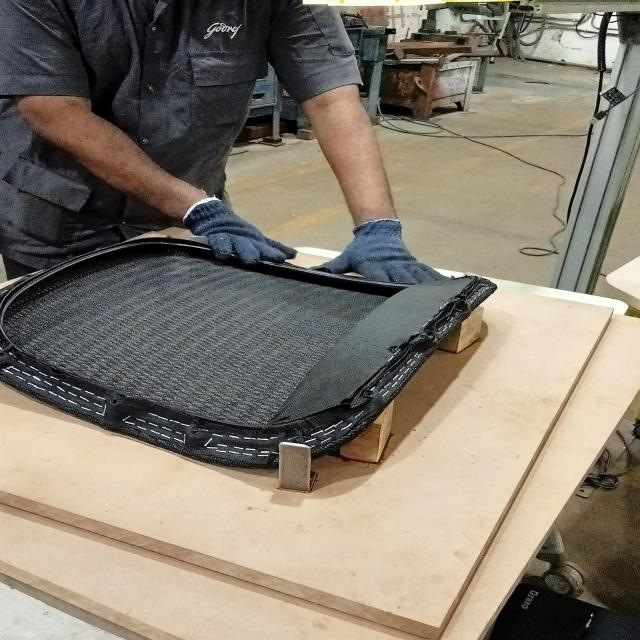Gloves-Detection: (323, 218, 440, 288), (172, 192, 284, 264)
